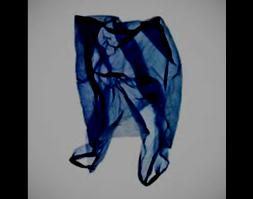Plastic: (61, 7, 186, 189)
